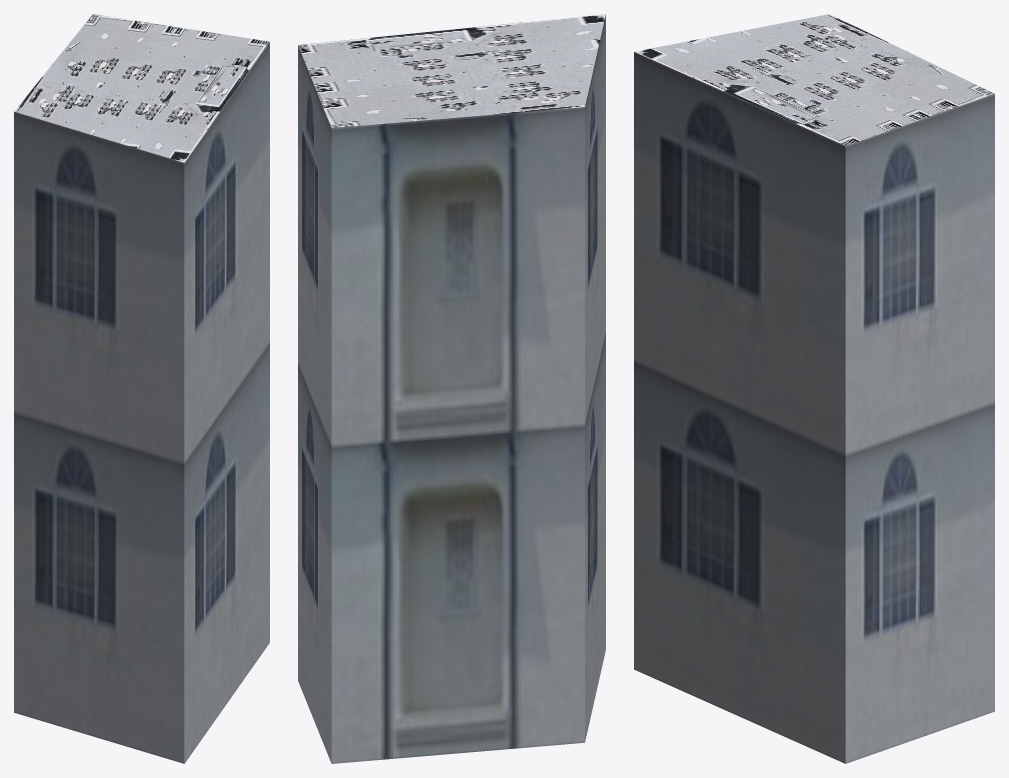
The model's file is ResTex__2761.fbx.
3 views of the same model, side by side, from view 1: azimuth 30°, elevation 25°; view 2: azimuth 150°, elevation 25°; view 3: azimuth 270°, elevation 25° (orthographic). The views are drawn at different scales.
Parts seen in each view (by area): view 1: CityEngineMaterial_17_m, CityEngineMaterial_2_m; view 2: CityEngineMaterial_17_m, CityEngineMaterial_2_m; view 3: CityEngineMaterial_17_m, CityEngineMaterial_2_m.
Part boxes in pixels (x1,y1,x2,y2): CityEngineMaterial_17_m: (14,42,269,763); CityEngineMaterial_2_m: (14,14,269,162); CityEngineMaterial_17_m: (298,15,605,763); CityEngineMaterial_2_m: (298,14,605,127); CityEngineMaterial_17_m: (634,52,994,763); CityEngineMaterial_2_m: (634,14,994,145).
Bounding box in the file's own units: 2.75 × 6 × 3.18.
Materials: 2 (2 with a texture image).
